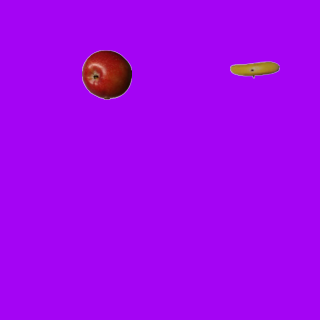Apple Braeburn: (81, 49, 131, 99)
Banana: (229, 44, 279, 94)
